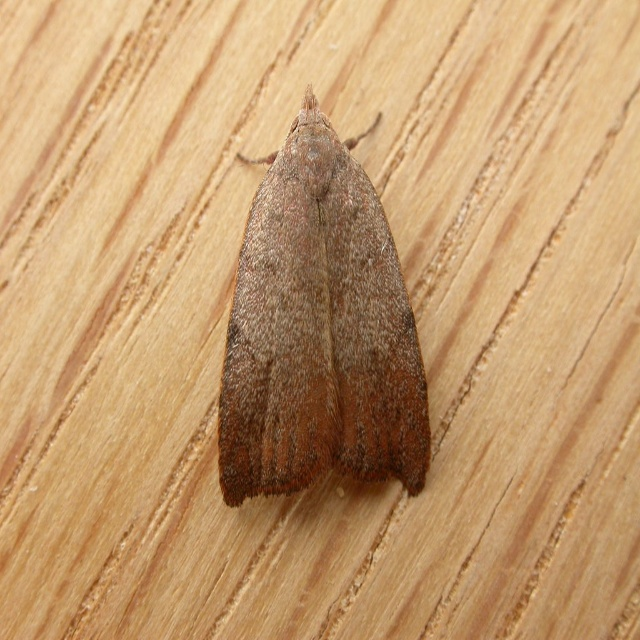Moths and butterflies: (216, 78, 430, 502)
